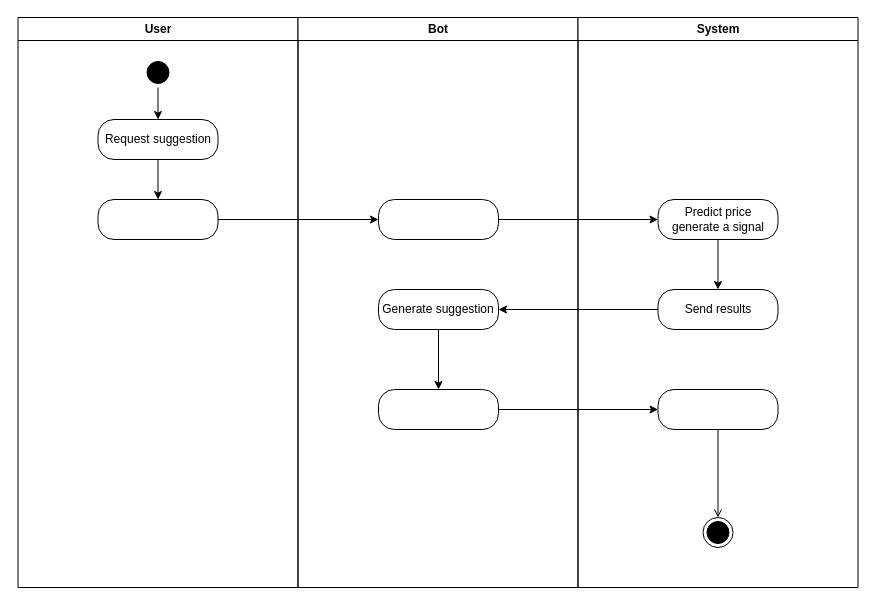
The diagram is 875 pixels wide and 605 high, and some of its shapes have lost their labels. The shapes that lost their labels are listed below. From the top down, each one's centre as x and y in pixels, then its label:
[157,219]: Fill stock details
[438,219]: Send stock details
[438,409]: Send result
[717,409]: Display suggestion
